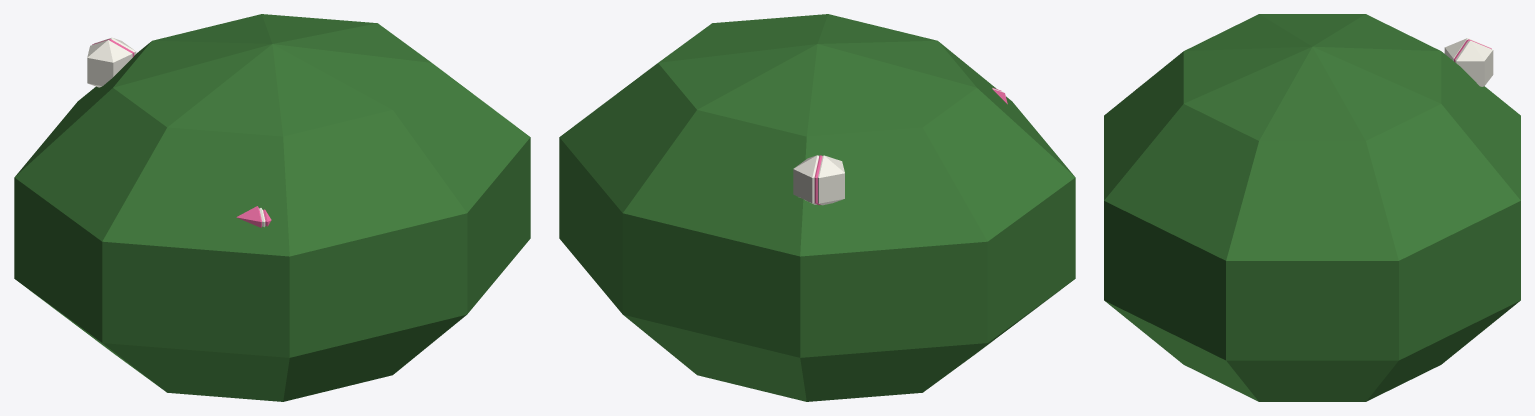
Rendered from bush_flowering.glb.
3 views of the same model, side by side, from view 1: azimuth 30°, elevation 25°; view 2: azimuth 150°, elevation 25°; view 3: azimuth 270°, elevation 25° (orthographic).
Visible parts, largest first — view 1: bush_flowering; view 2: bush_flowering; view 3: bush_flowering.
Part boxes in pixels (<box>): bush_flowering: <box>14,14,530,401</box>; bush_flowering: <box>559,14,1075,401</box>; bush_flowering: <box>1104,14,1520,401</box>.
Bounding box in the file's own units: 1.23 × 0.9 × 1.05.
